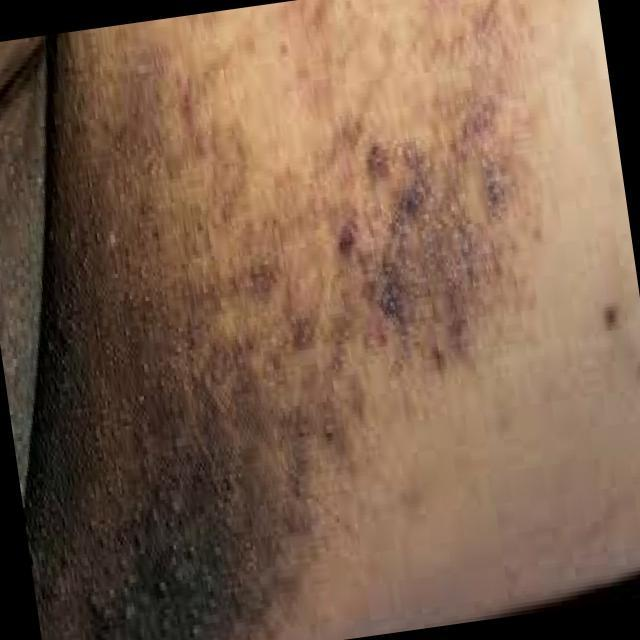Eczema: (54, 36, 546, 615)
